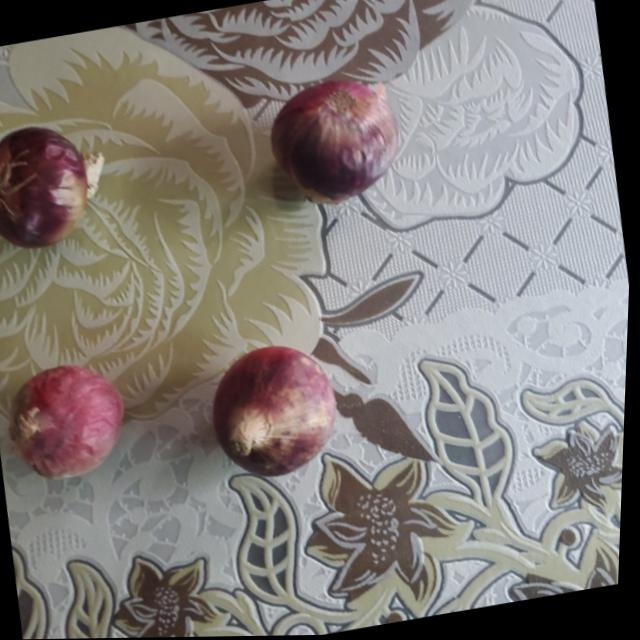onion: (206, 337, 352, 485), (263, 66, 411, 209), (8, 354, 138, 481), (0, 117, 100, 255)
